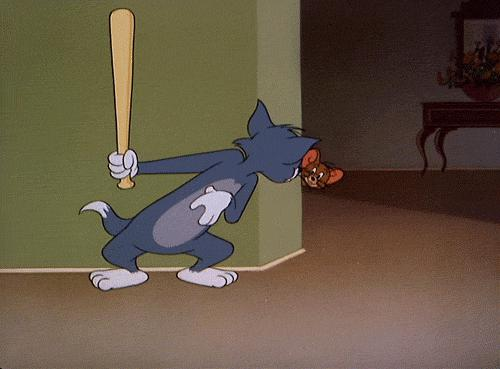tom: (79, 97, 321, 292)
